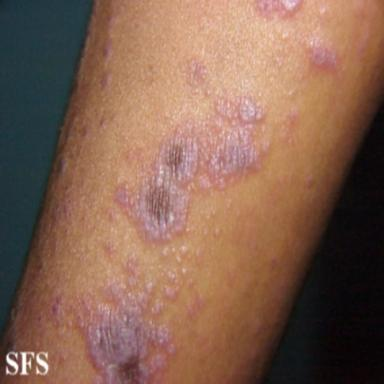lichen: (112, 92, 273, 244), (75, 257, 179, 382), (306, 38, 337, 69), (186, 59, 211, 95), (254, 0, 302, 17), (280, 108, 299, 144), (51, 296, 64, 327), (55, 158, 67, 179), (103, 35, 113, 60), (104, 239, 117, 258), (101, 71, 112, 91), (81, 124, 89, 138)
